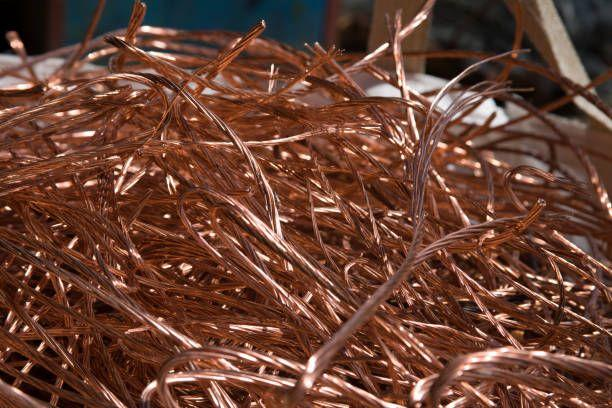metal: (4, 16, 372, 406), (312, 11, 606, 287)
